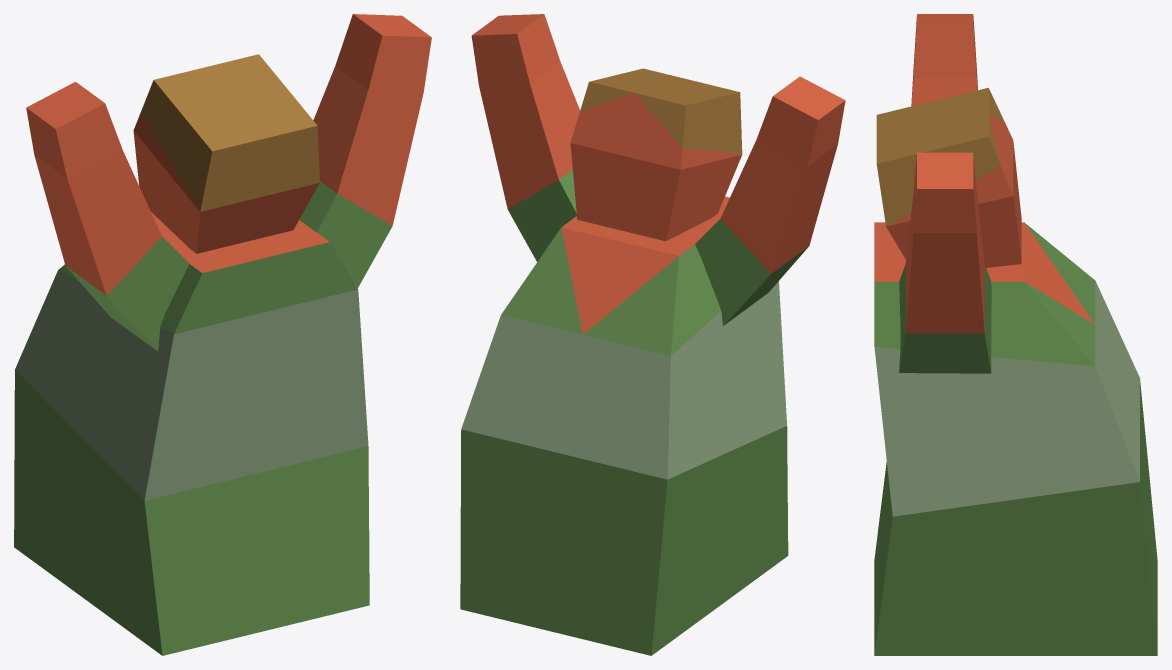
The model's file is spectator_03.fbx.
3 renders of one model, left to right at view 1: azimuth 30°, elevation 25°; view 2: azimuth 150°, elevation 25°; view 3: azimuth 270°, elevation 25°, orthographic. The views are drawn at different scales.
Visible parts, largest first — view 1: spectator_03; view 2: spectator_03; view 3: spectator_03.
Boxes of the visible parts, left/top/right/bottom form: spectator_03: left=14, top=14, right=431, bottom=655; spectator_03: left=460, top=14, right=845, bottom=655; spectator_03: left=874, top=14, right=1157, bottom=655.
Size of the model in its own units: 184 by 254 by 125.
